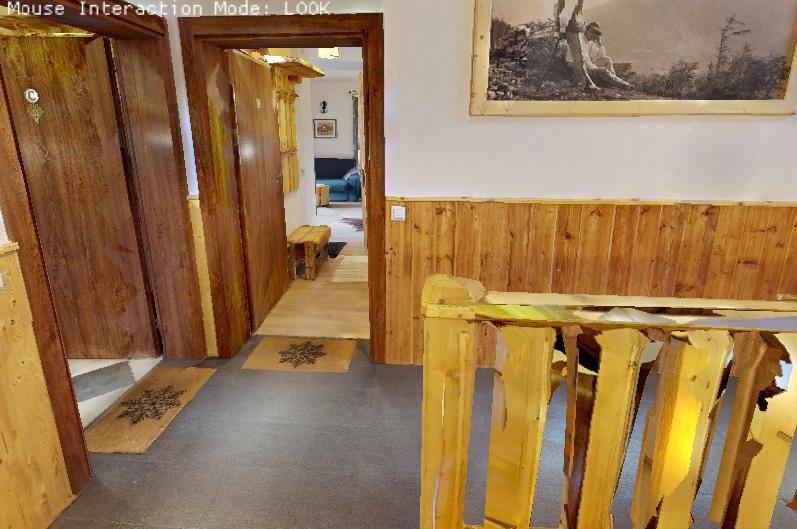door: (216, 50, 296, 315)
door-frame: (194, 0, 388, 364)
